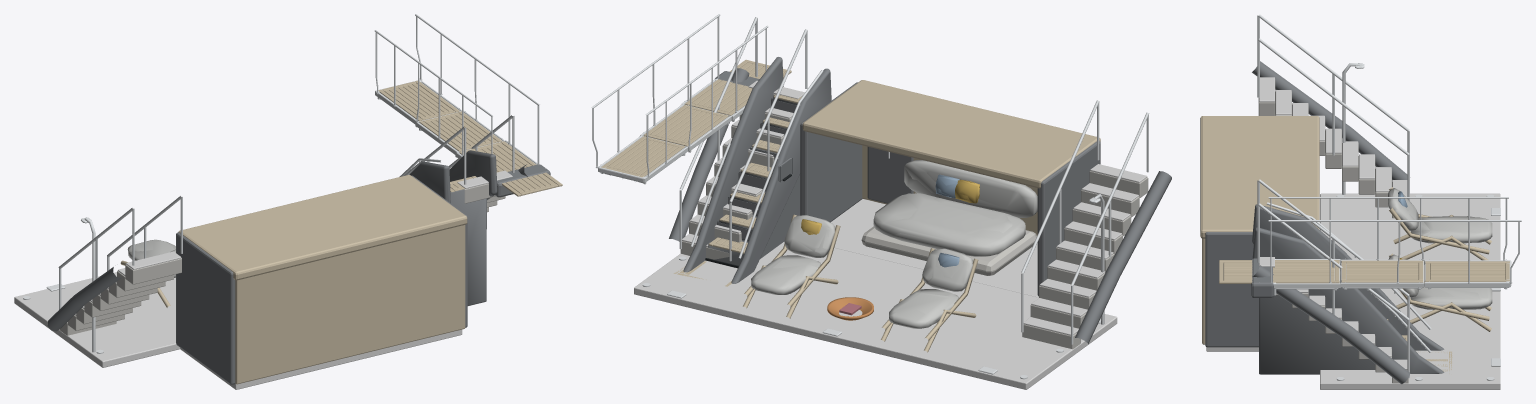
File: context.glb
3 views of the same model, side by side, from view 1: azimuth 30°, elevation 25°; view 2: azimuth 150°, elevation 25°; view 3: azimuth 270°, elevation 25° (orthographic). The views are drawn at different scales.
Visible parts, largest first — view 1: beach-club | beach-club (×2), beach-club | none (×2); view 2: beach-club | beach-club (×2), beach-club | none (×2); view 3: beach-club | beach-club (×2), beach-club | none (×2).
Part boxes in pixels (x1,y1,x2,y2): beach-club | beach-club (×2): (14, 80, 562, 389); beach-club | none (×2): (23, 14, 545, 353); beach-club | beach-club (×2): (601, 57, 1171, 389); beach-club | none (×2): (591, 14, 1149, 379); beach-club | beach-club (×2): (1200, 61, 1509, 389); beach-club | none (×2): (1257, 14, 1521, 380).
Size of the model in its own units: 7.37 by 2.96 by 4.61.
